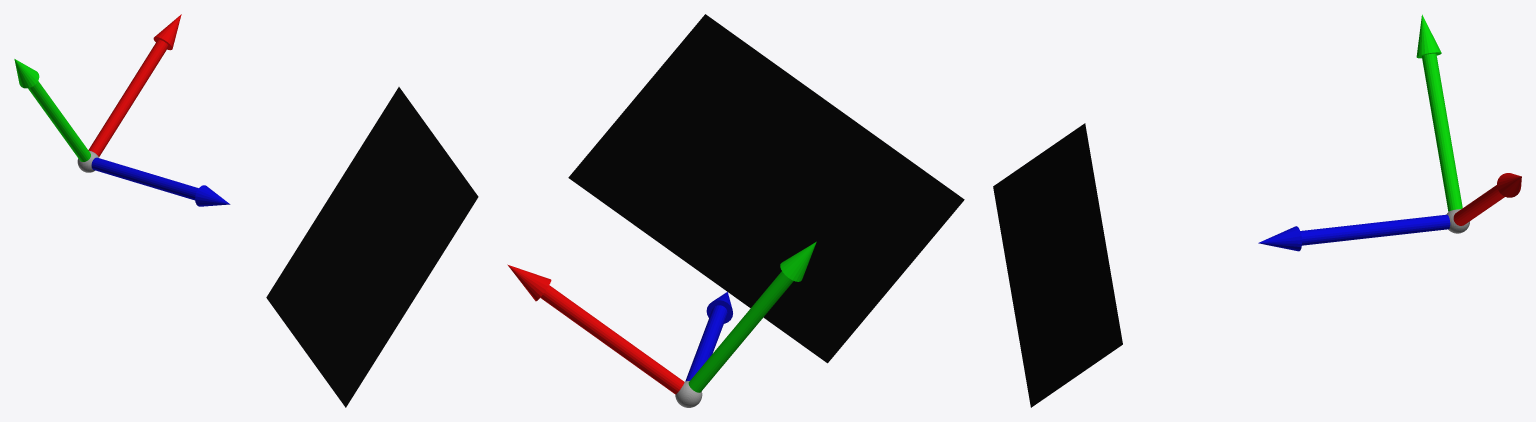
3 views of the same model, side by side, from view 1: azimuth 30°, elevation 25°; view 2: azimuth 150°, elevation 25°; view 3: azimuth 270°, elevation 25° (orthographic). The views are drawn at different scales.
Size of the model in its own units: 0.2605 by 0.2126 by 0.3107.
